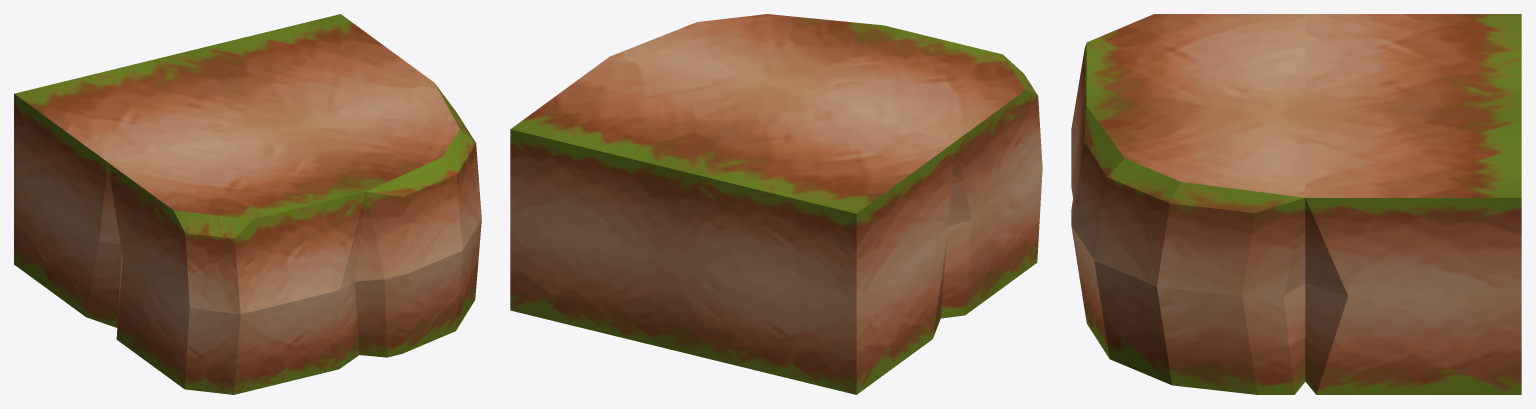
Rendered from CliffFaceTile04_Corner_1x1x2.fbx.
3 views of the same model, side by side, from view 1: azimuth 30°, elevation 25°; view 2: azimuth 150°, elevation 25°; view 3: azimuth 270°, elevation 25° (orthographic). The views are drawn at different scales.
Parts seen in each view (by area): view 1: Cube; view 2: Cube; view 3: Cube.
Part boxes in pixels (x1=…): Cube: x1=14, y1=14, x2=481, y2=394; Cube: x1=510, y1=14, x2=1042, y2=394; Cube: x1=1071, y1=14, x2=1521, y2=394.
Size of the model in its own units: 2 by 2.07 by 1.
